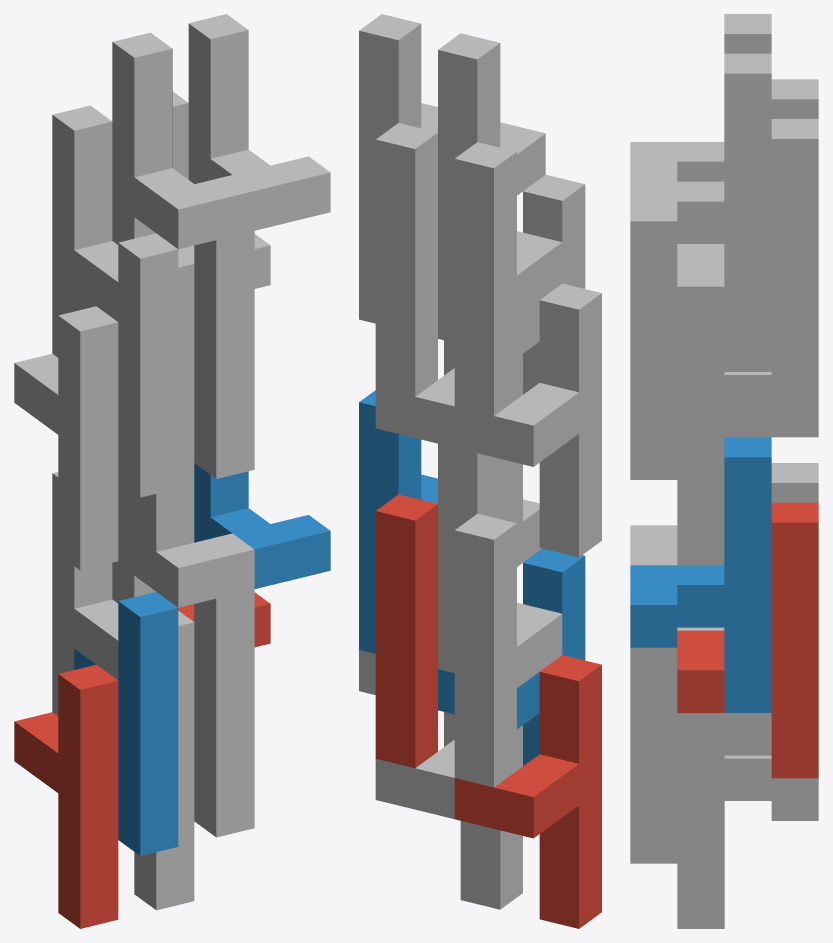
The model's file is tiling.obj.
3 renders of one model, left to right at view 1: azimuth 30°, elevation 25°; view 2: azimuth 150°, elevation 25°; view 3: azimuth 270°, elevation 25°, orthographic. The views are drawn at different scales.
Parts seen in each view (by area): view 1: copy_1_domain_3, copy_1_domain_1, copy_2_domain_4, copy_1_domain_4, copy_1_domain_2, copy_2_domain_8, copy_1_domain_6, copy_1_domain_8, copy_2_domain_3, copy_2_domain_2, copy_2_domain_6, copy_2_domain_1 (+4 smaller); view 2: copy_1_domain_3, copy_1_domain_1, copy_2_domain_1, copy_2_domain_3, copy_2_domain_7, copy_2_domain_5, copy_2_domain_4, copy_2_domain_8, copy_1_domain_5, copy_2_domain_2, copy_2_domain_6, copy_1_domain_4 (+4 smaller); view 3: copy_2_domain_8, copy_2_domain_6, copy_2_domain_5, copy_2_domain_7, copy_1_domain_7, copy_1_domain_6, copy_1_domain_5, copy_1_domain_8, copy_2_domain_4, copy_2_domain_2, copy_2_domain_1, copy_2_domain_3.
Part boxes in pixels (left/top/right/bottom): copy_1_domain_3: left=14, top=306, right=118, bottom=570; copy_1_domain_1: left=14, top=664, right=118, bottom=928; copy_2_domain_4: left=112, top=32, right=254, bottom=249; copy_1_domain_4: left=74, top=233, right=178, bottom=497; copy_1_domain_2: left=74, top=592, right=178, bottom=855; copy_2_domain_8: left=188, top=14, right=330, bottom=230; copy_1_domain_6: left=194, top=589, right=254, bottom=837; copy_1_domain_8: left=194, top=231, right=254, bottom=478; copy_2_domain_3: left=52, top=105, right=194, bottom=357; copy_2_domain_2: left=112, top=482, right=254, bottom=607; copy_2_domain_6: left=194, top=463, right=330, bottom=588; copy_2_domain_1: left=52, top=472, right=194, bottom=715; copy_1_domain_3: left=454, top=283, right=601, bottom=557; copy_1_domain_1: left=454, top=655, right=601, bottom=928; copy_2_domain_1: left=454, top=513, right=562, bottom=787; copy_2_domain_3: left=454, top=142, right=562, bottom=415; copy_2_domain_7: left=375, top=123, right=437, bottom=396; copy_2_domain_5: left=375, top=494, right=437, bottom=768; copy_2_domain_4: left=438, top=33, right=545, bottom=301; copy_2_domain_8: left=359, top=14, right=437, bottom=282; copy_1_domain_5: left=375, top=725, right=522, bottom=909; copy_2_domain_2: left=438, top=443, right=541, bottom=672; copy_2_domain_6: left=359, top=390, right=437, bottom=653; copy_1_domain_4: left=438, top=174, right=585, bottom=394; copy_2_domain_8: left=630, top=53, right=771, bottom=329; copy_2_domain_6: left=630, top=437, right=771, bottom=712; copy_2_domain_5: left=677, top=502, right=818, bottom=778; copy_2_domain_7: left=677, top=119, right=818, bottom=394; copy_1_domain_7: left=677, top=352, right=818, bottom=545; copy_1_domain_6: left=630, top=647, right=771, bottom=863; copy_1_domain_5: left=677, top=735, right=818, bottom=928; copy_1_domain_8: left=630, top=264, right=771, bottom=479; copy_2_domain_4: left=630, top=14, right=771, bottom=181; copy_2_domain_2: left=630, top=417, right=771, bottom=565; copy_2_domain_1: left=677, top=463, right=818, bottom=630; copy_2_domain_3: left=677, top=79, right=818, bottom=246.
Size of the model in its own units: 6 by 21 by 4.
